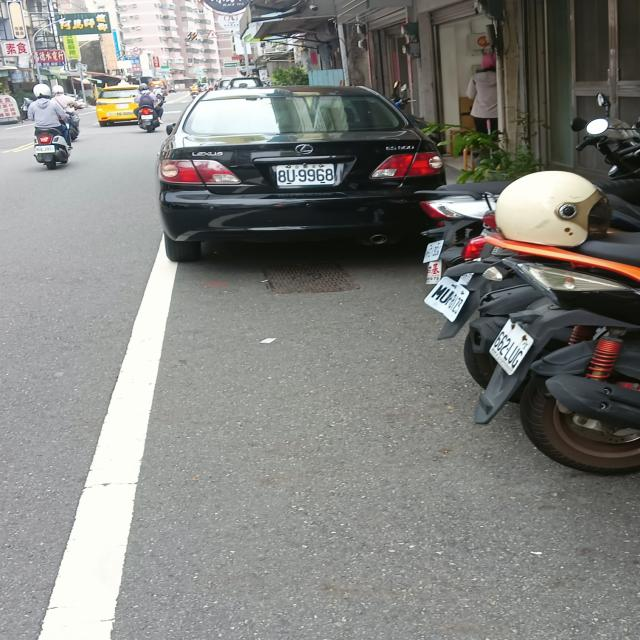license-plate: (485, 315, 539, 375), (422, 277, 473, 321), (268, 165, 344, 187)
